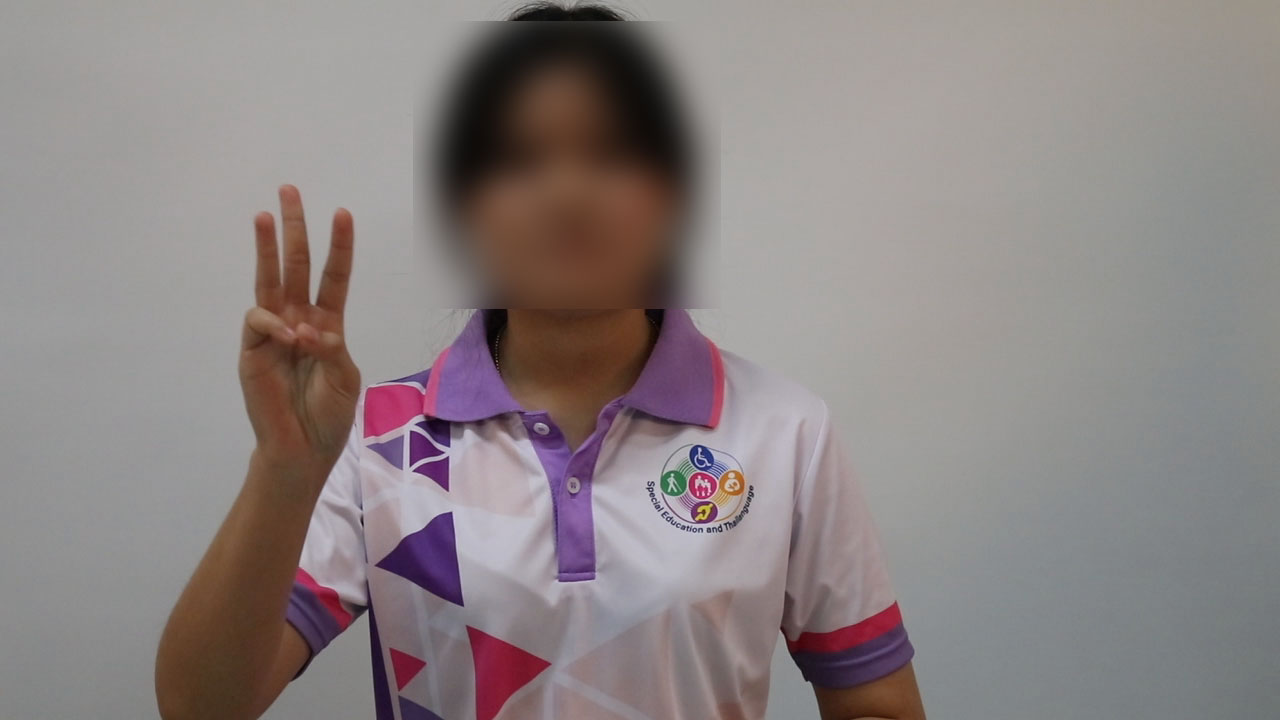wor: (226, 172, 379, 497)
